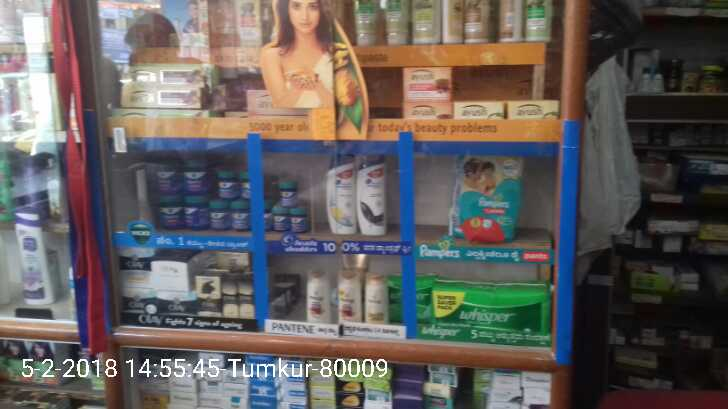beauty: (322, 153, 356, 237), (358, 150, 391, 236), (303, 268, 329, 328), (117, 247, 154, 288), (223, 274, 255, 320), (331, 270, 357, 325), (368, 273, 392, 324), (193, 269, 218, 316), (152, 291, 191, 316), (119, 287, 152, 314)
pharmacy: (453, 147, 529, 244), (435, 280, 552, 330), (144, 154, 174, 191), (180, 159, 208, 194), (157, 198, 185, 233), (185, 193, 210, 228), (283, 205, 309, 237), (212, 171, 233, 199), (230, 200, 251, 228), (211, 198, 227, 228), (274, 181, 294, 202), (272, 205, 288, 231)
